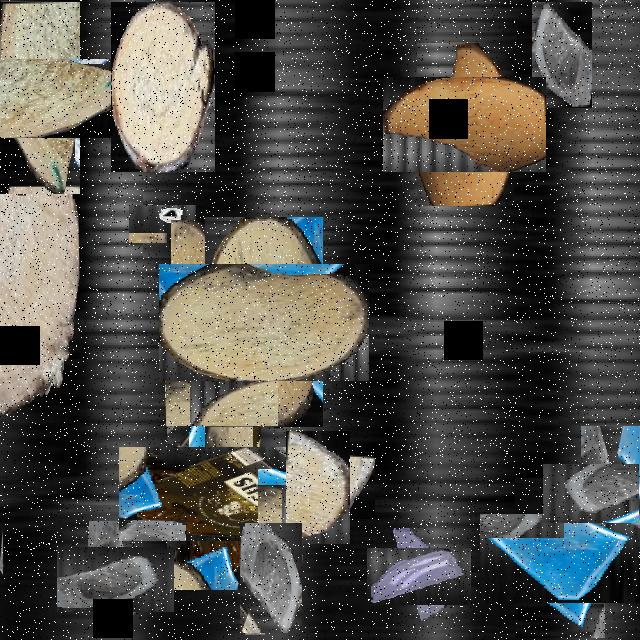glass: (498, 496, 622, 620), (171, 220, 263, 384), (70, 534, 162, 625), (177, 350, 266, 439), (561, 445, 640, 542), (240, 523, 302, 633), (378, 536, 459, 616), (532, 2, 592, 108), (0, 58, 4, 194), (0, 519, 3, 633)
metal: (136, 198, 188, 250)
plastic: (142, 422, 286, 566)
wood: (182, 240, 346, 404), (0, 187, 79, 414), (111, 2, 215, 172), (400, 60, 530, 189), (0, 30, 108, 166), (274, 442, 362, 532)
